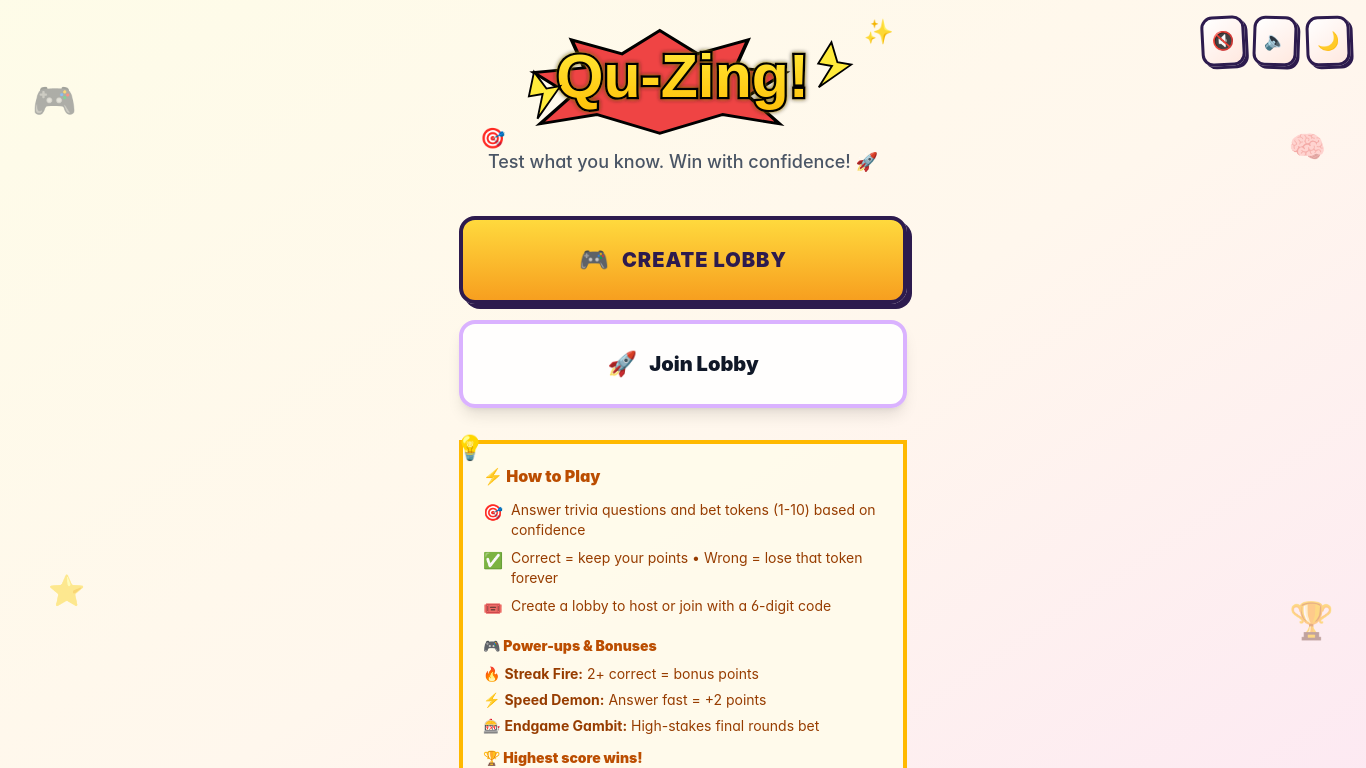
Test: BrowserLobby Component › Create Mode › should pre-fill username from localStorage
What coordinates should you click on to do the following:
click the button "🎮 Create Lobby"
I would click on:
 (683, 260)
Its box is [459,216,907,304].
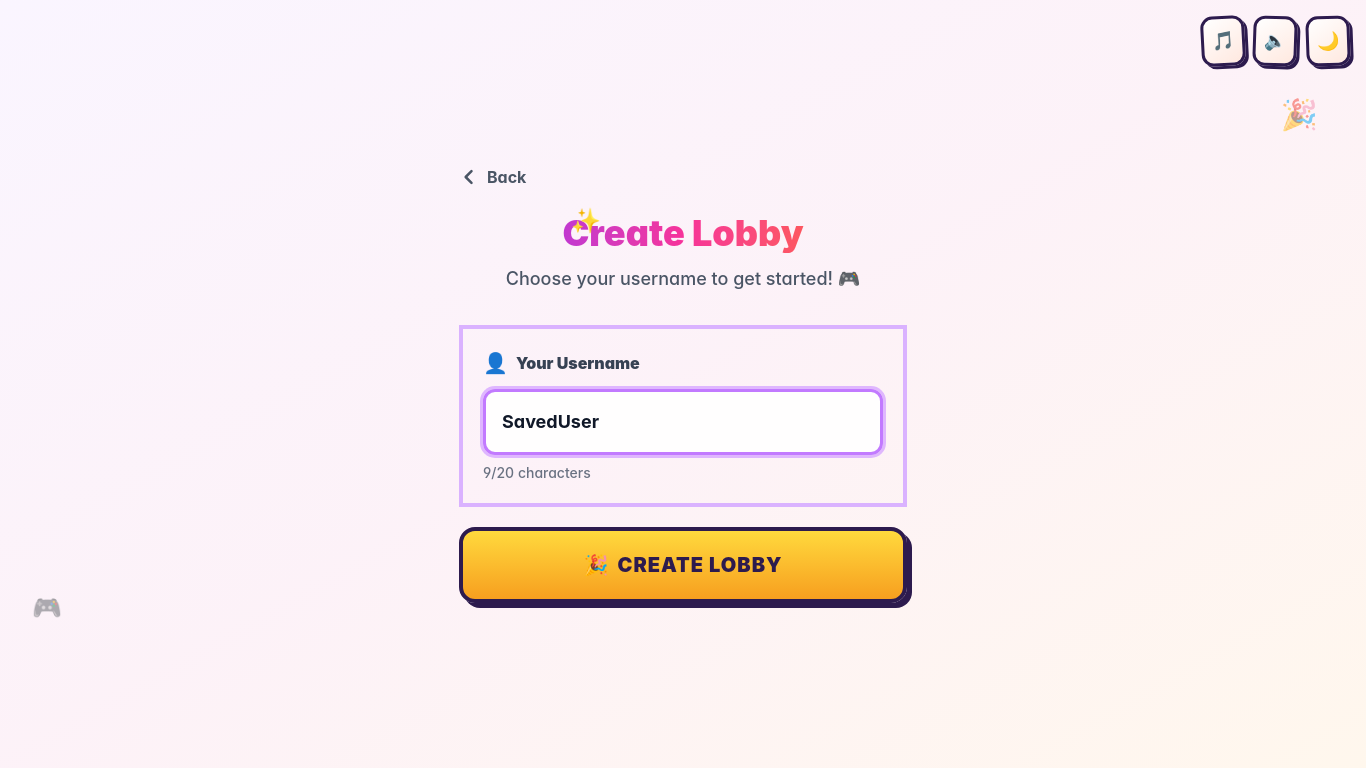
expect the field with placeholder "Enter your name..." holds "SavedUser": met, box [483,389,883,455]
